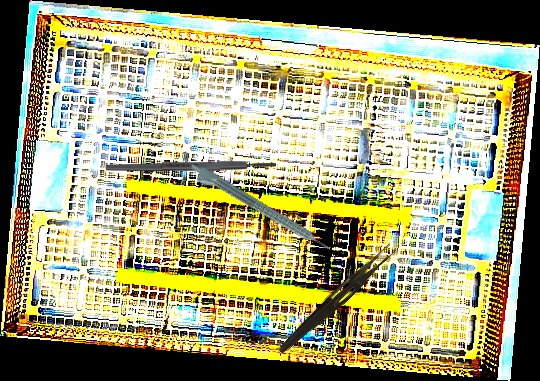Dressing Forceps: (276, 239, 397, 360)
Handpiece: (185, 160, 334, 260)
Scalpel Handle: (105, 159, 277, 173)
